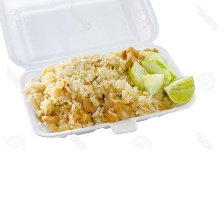foam_box: (0, 0, 202, 142)
